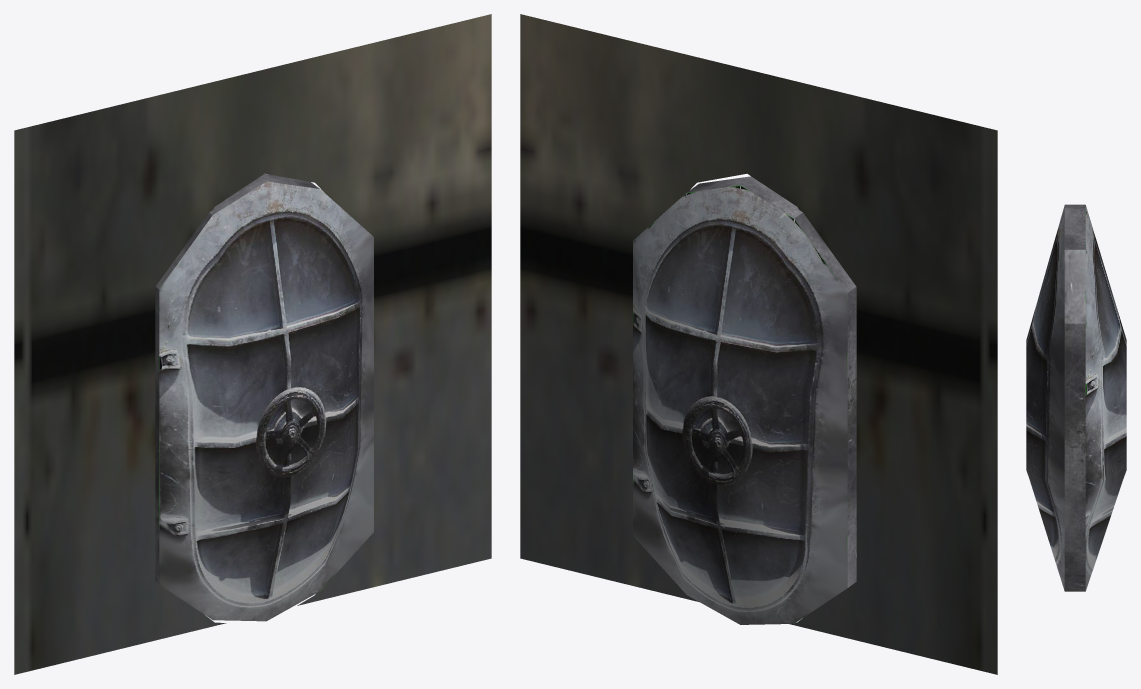
The model's file is wallanddoorforwaldo.FBX.
3 renders of one model, left to right at view 1: azimuth 30°, elevation 25°; view 2: azimuth 150°, elevation 25°; view 3: azimuth 270°, elevation 25°, orthographic. The views are drawn at different scales.
Parts seen in each view (by area): view 1: Box00121, Box001wf; view 2: Box00121, Box001wf; view 3: Box001wf.
Part boxes in pixels (x1=…): Box00121: x1=14, y1=14, x2=491, y2=674; Box001wf: x1=155, y1=174, x2=373, y2=621; Box00121: x1=520, y1=14, x2=997, y2=674; Box001wf: x1=633, y1=176, x2=856, y2=624; Box001wf: x1=1026, y1=204, x2=1126, y2=591.
Size of the model in its own units: 9.85 by 10.82 by 2.11.
Materials: 2 (2 with a texture image).
